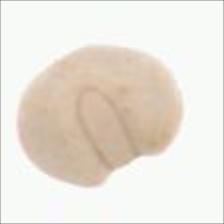L5: (73, 85, 143, 173), (26, 52, 69, 89)
L6: (15, 41, 190, 191)
